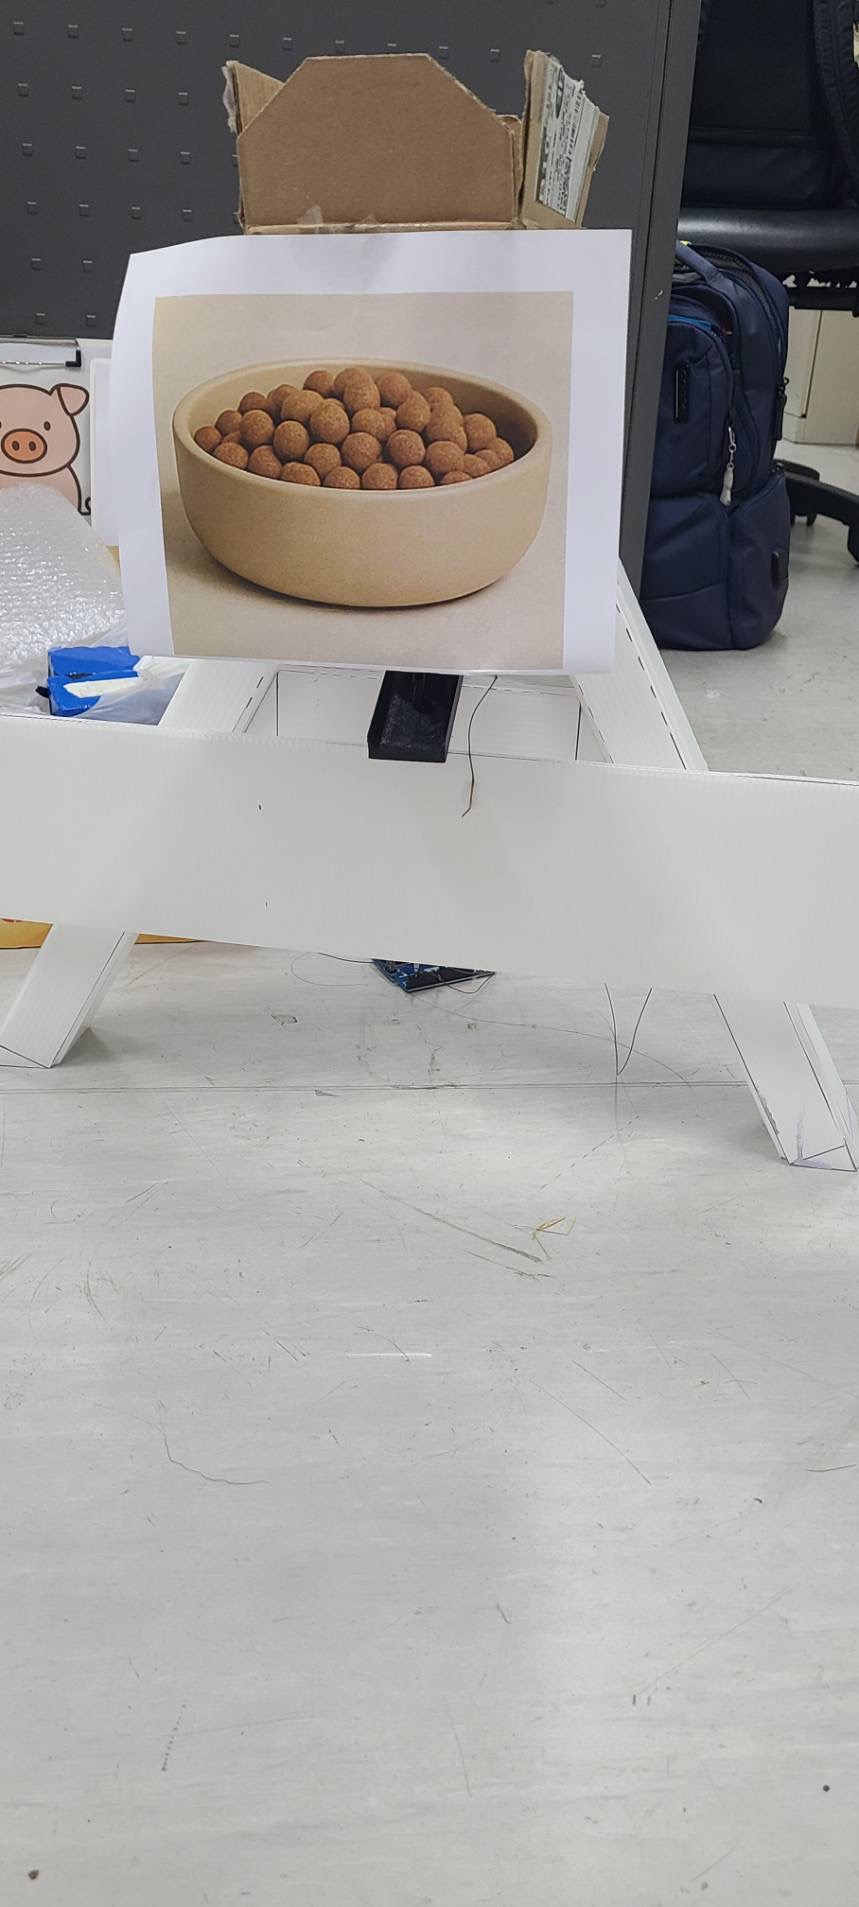machine: (165, 358, 554, 611)
